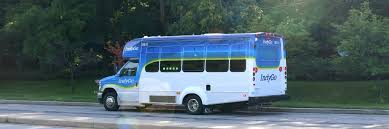bus: (94, 31, 287, 115)
